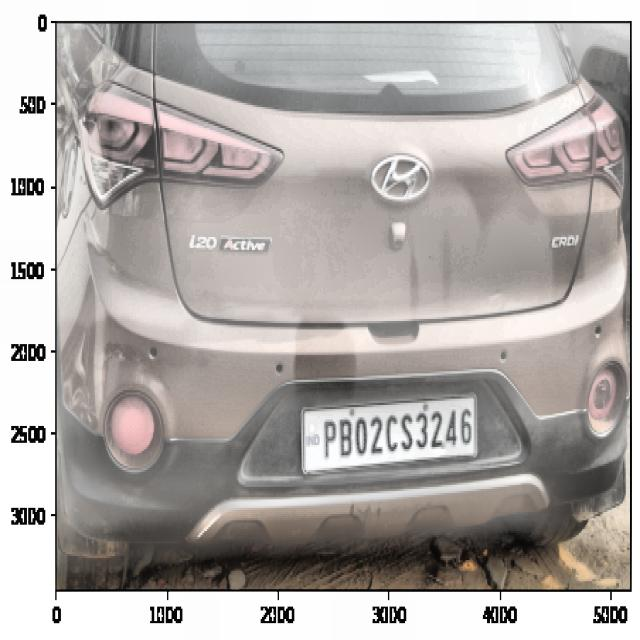license_plate: (316, 402, 477, 461)
